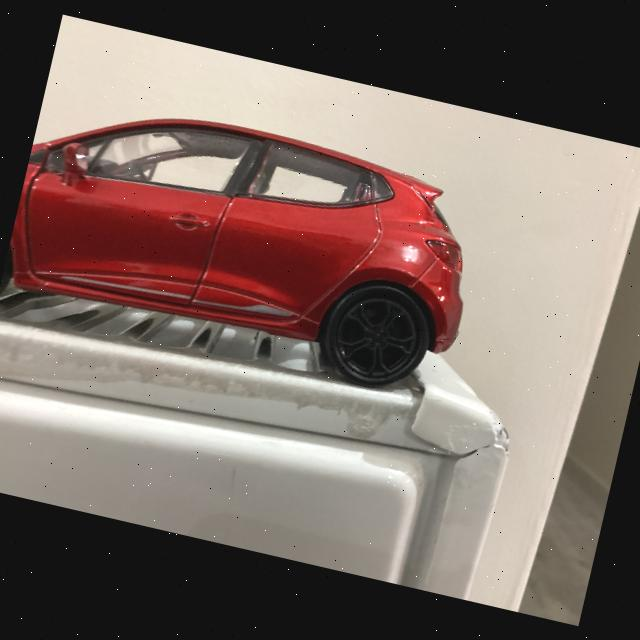Dogru_Jant: (329, 289, 424, 385)
